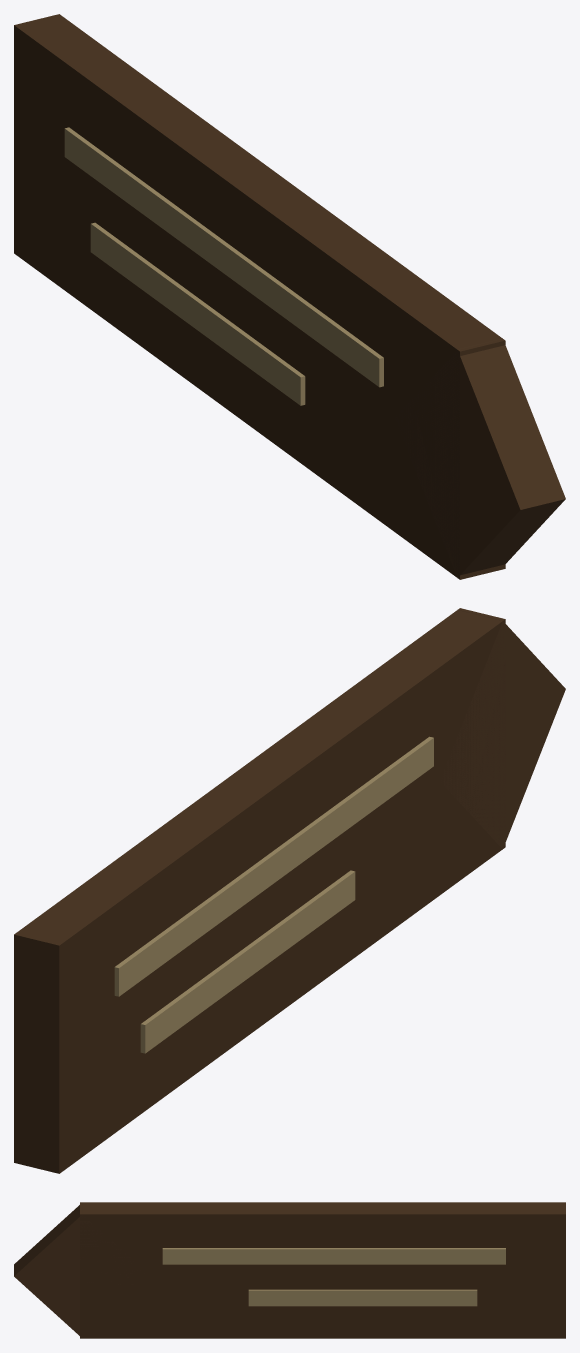
File: sign_arm.glb
3 views of the same model, one above another, from view 1: azimuth 30°, elevation 25°; view 2: azimuth 150°, elevation 25°; view 3: azimuth 270°, elevation 25° (orthographic). The views are drawn at different scales.
Parts seen in each view (by area): view 1: SignArm; view 2: SignArm; view 3: SignArm.
Boxes of the visible parts, bbox=[...] form: SignArm: bbox=[14, 14, 565, 579]; SignArm: bbox=[14, 608, 565, 1173]; SignArm: bbox=[14, 1202, 565, 1338].
Size of the model in its own units: 0.06 by 0.2404 by 0.9652.
